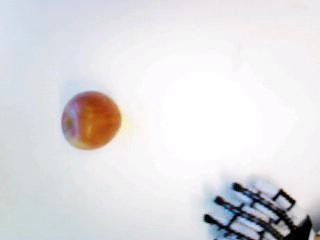apple: (61, 90, 119, 149)
hand: (202, 181, 313, 238)
